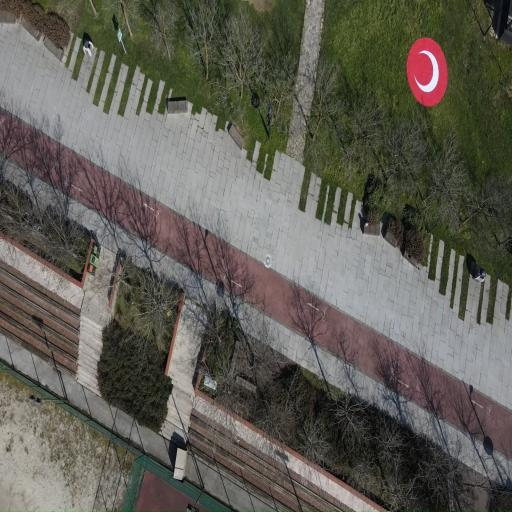UAP: (407, 38, 448, 106)
